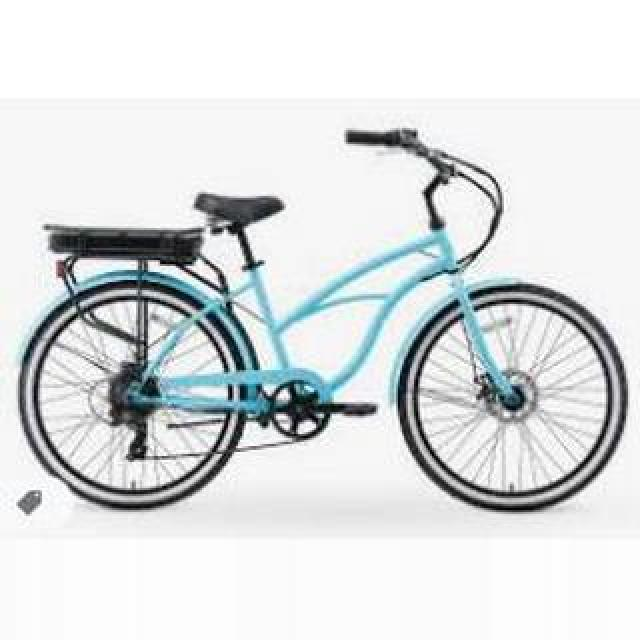Person: (17, 125, 631, 513)
